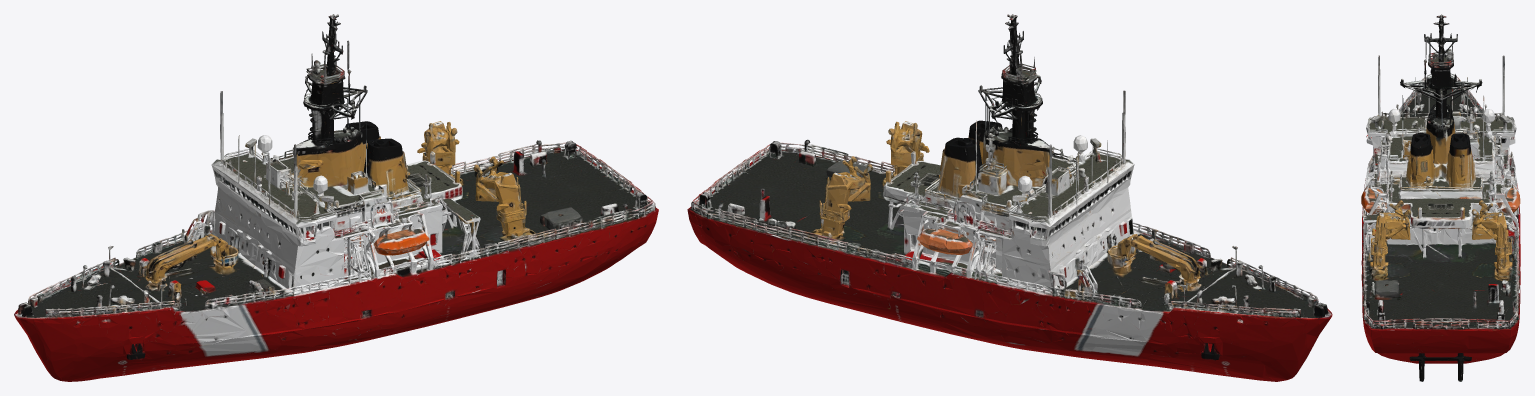
Rendered from rompehielos.glb.
3 renders of one model, left to right at view 1: azimuth 30°, elevation 25°; view 2: azimuth 150°, elevation 25°; view 3: azimuth 270°, elevation 25°, orthographic. The views are drawn at different scales.
Parts seen in each view (by area): view 1: geometry_0; view 2: geometry_0; view 3: geometry_0.
Boxes of the visible parts, left/top/right/bottom form: geometry_0: left=14, top=14, right=658, bottom=381; geometry_0: left=687, top=14, right=1332, bottom=381; geometry_0: left=1361, top=14, right=1520, bottom=381.
Size of the model in its own units: 1.9 by 0.9189 by 0.5151.
Materials: 1 (1 with a texture image).
